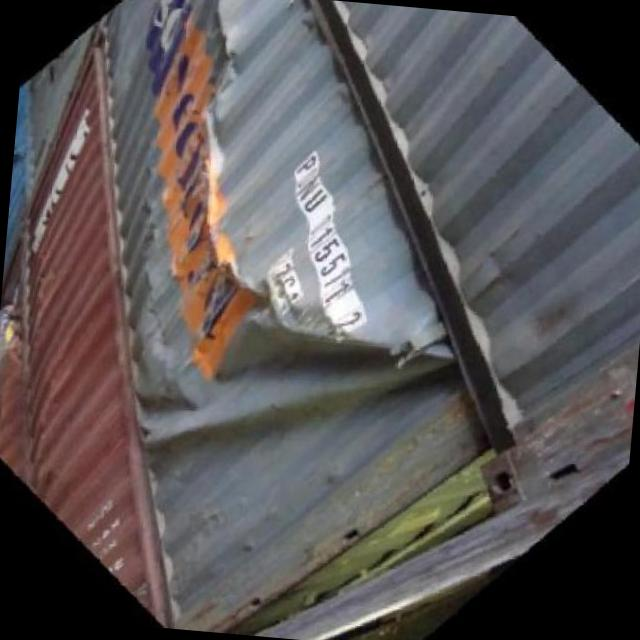Deframe_or_Dent: (108, 274, 479, 478), (115, 0, 289, 298)
